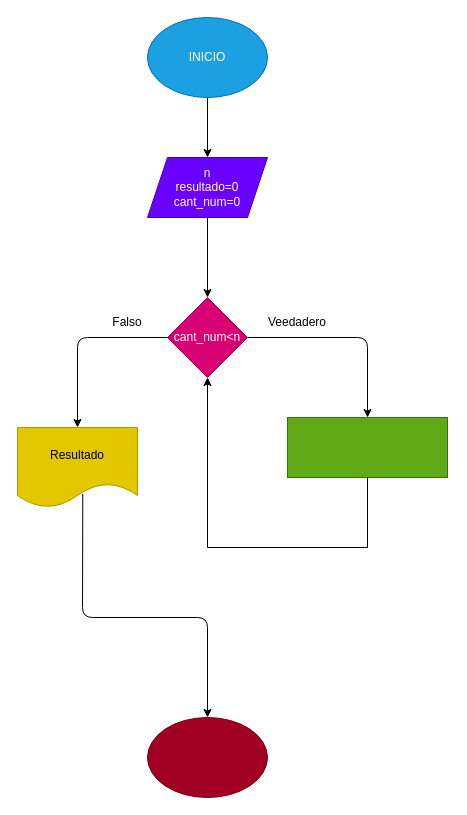
Some shapes in this 467 by 815 pixel diagram are drawn without their labels. Each missing label, with the box of its shape:
cant=num=cant_num+1 resultado=cant_num+resultado: (286, 416, 448, 478)
FIN: (146, 716, 268, 798)
